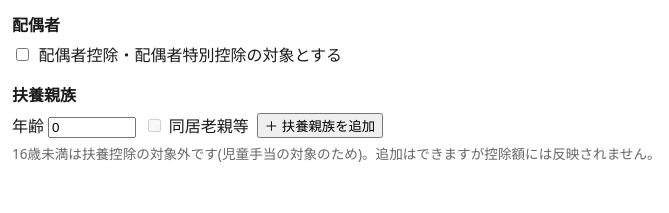
Test: SpouseDependentForm › 年齢が不正な場合は追加せずエラーを表示する
Replace the text in the field labelled "年齢" with "-1". click: [92, 127]
box: [48,117,136,138]
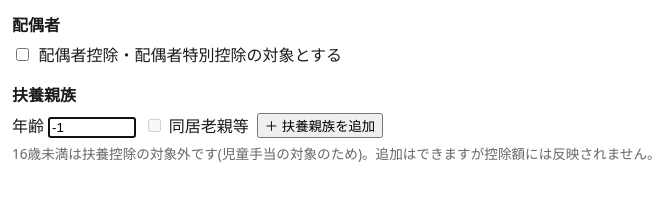
Click the button "＋ 扶養親族を追加". click: [320, 125]
box: [257,113,383,138]
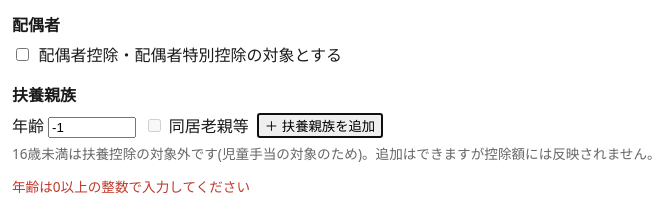
Expected: the message reads "年齢は0以上の整数で入力してください", [12,177,250,196]
